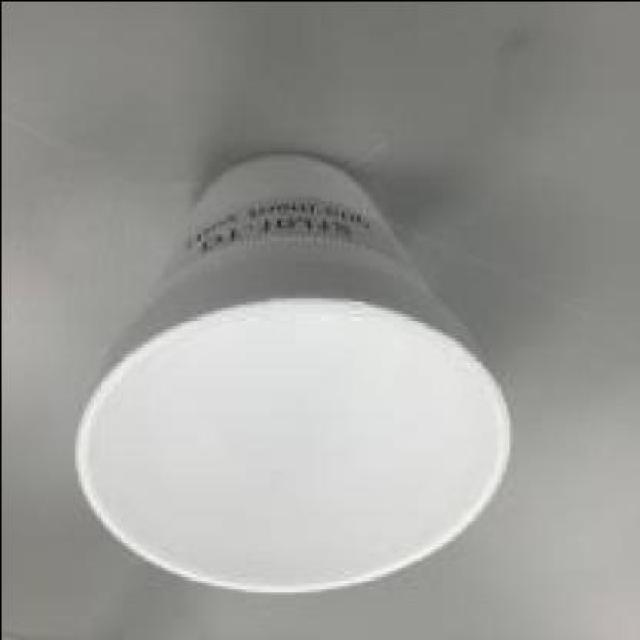PAPER: (68, 154, 510, 597)
